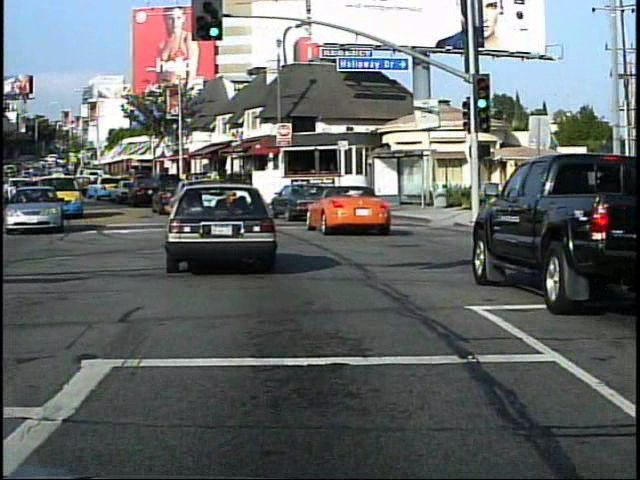person: (574, 187, 597, 248)
